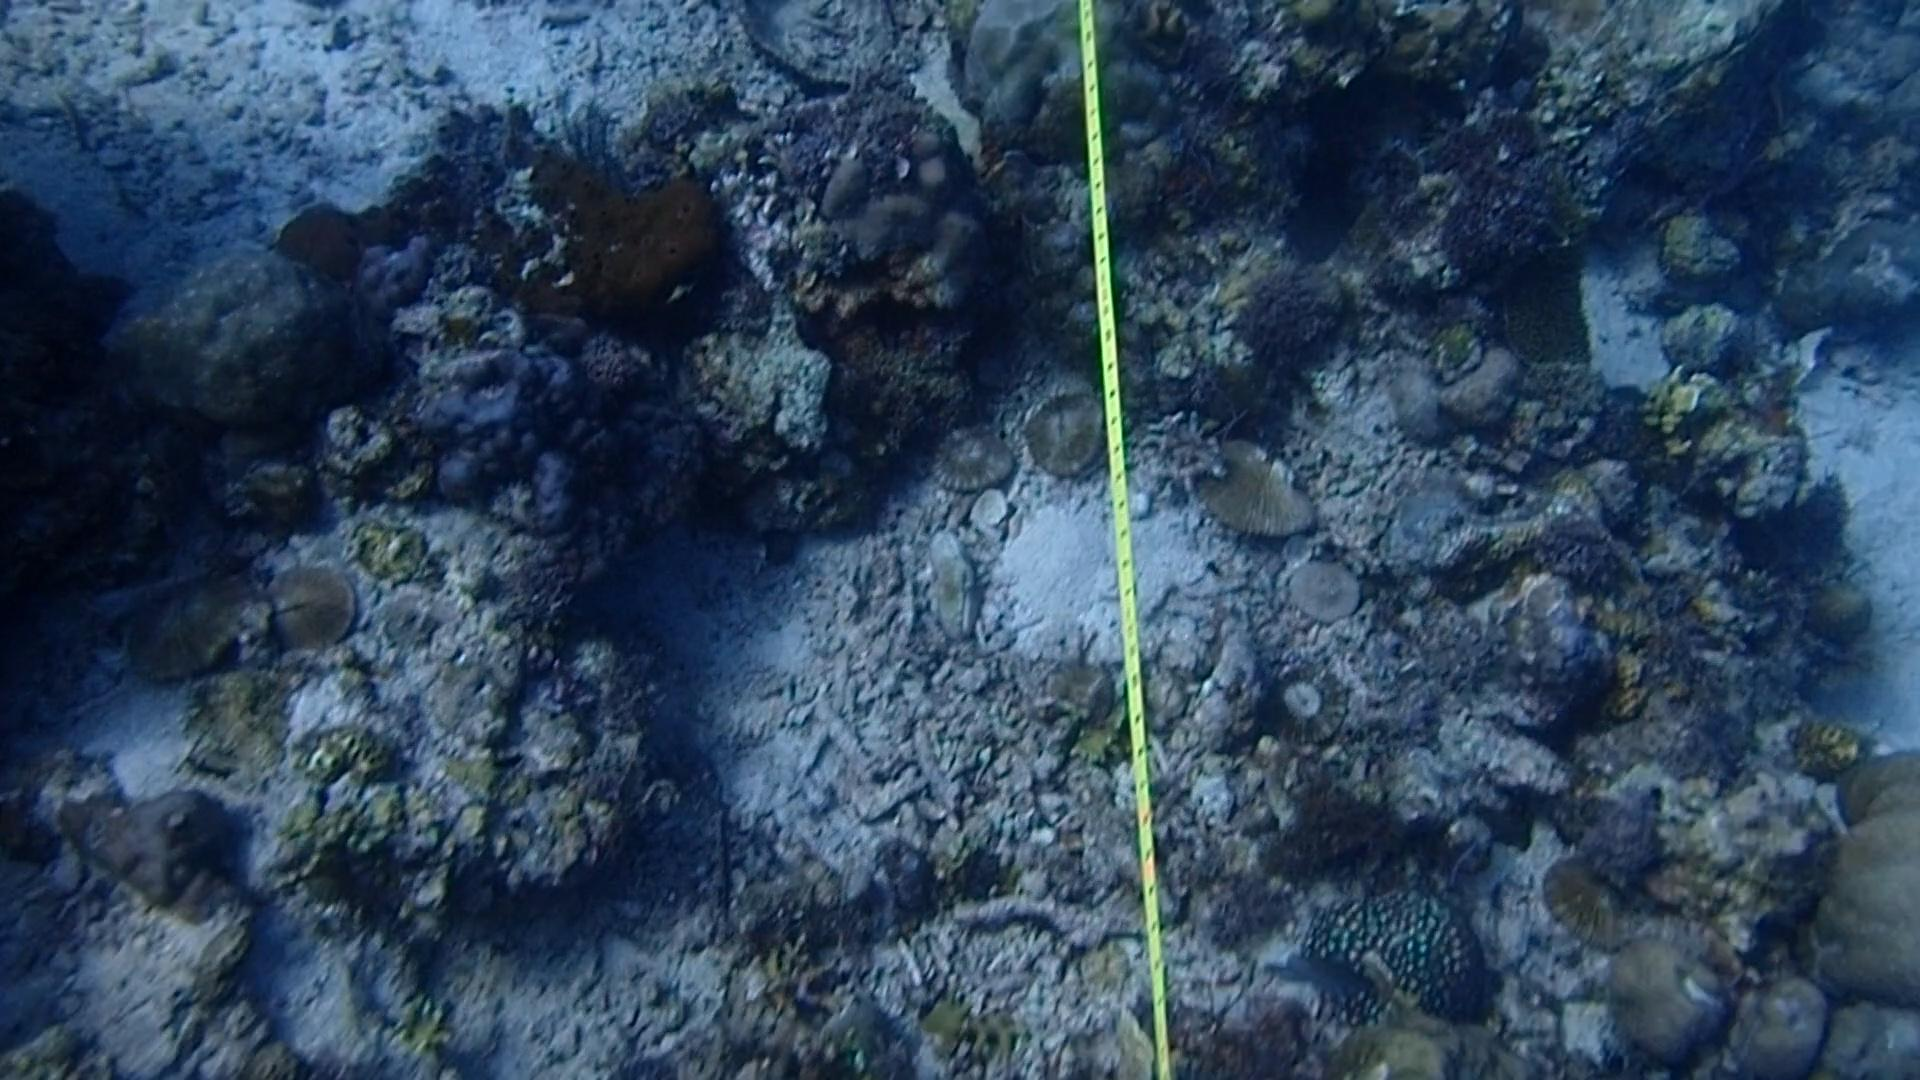Light Fish: (1283, 938, 1383, 1017)
